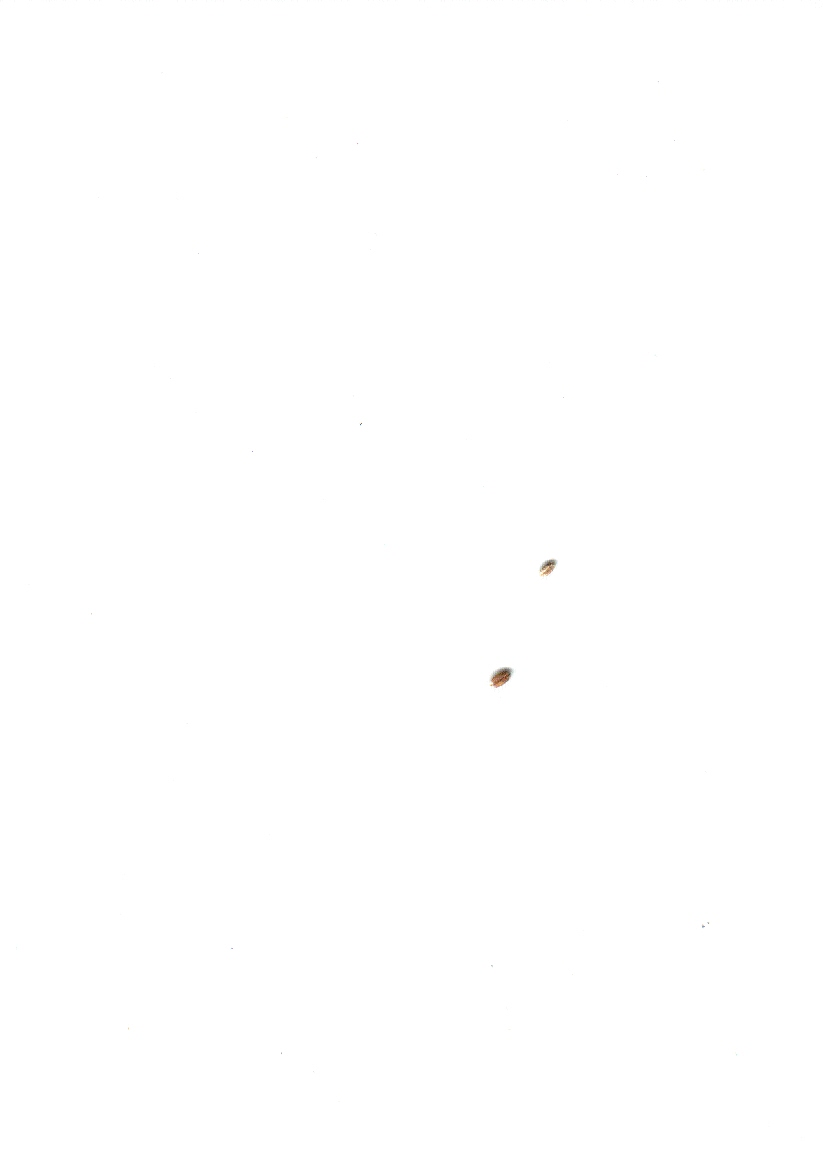grains: (523, 536, 572, 598), (481, 659, 520, 702)
